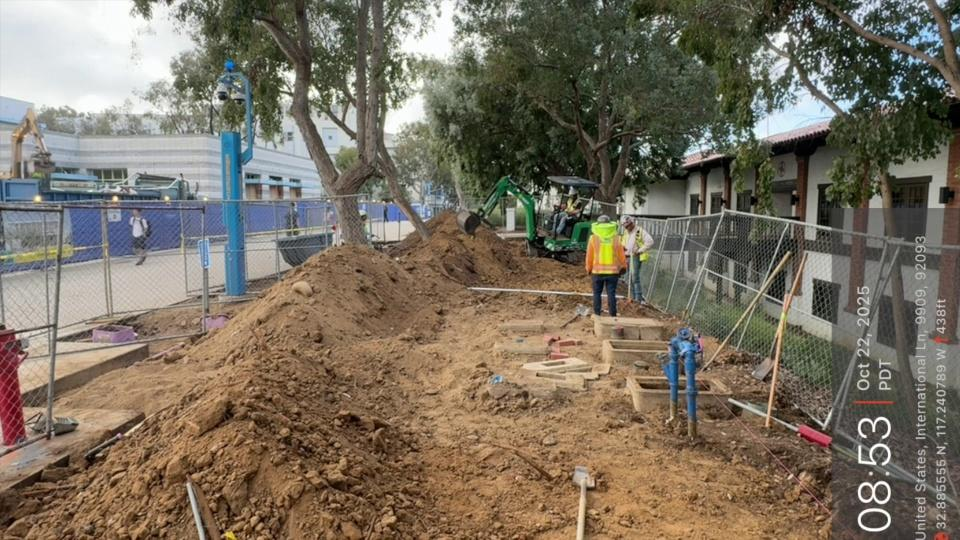Exacavator: (455, 173, 618, 265)
